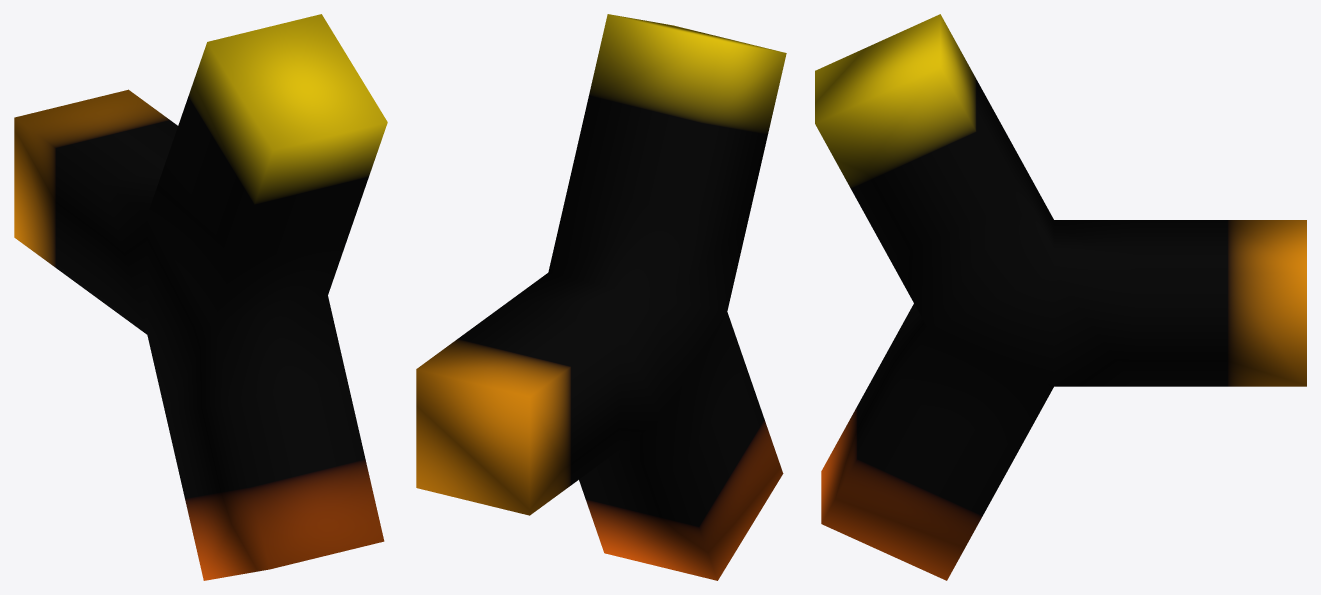
Rendered from TriThing1.fbx.
3 views of the same model, side by side, from view 1: azimuth 30°, elevation 25°; view 2: azimuth 150°, elevation 25°; view 3: azimuth 270°, elevation 25° (orthographic). The views are drawn at different scales.
Visible parts, largest first — view 1: TriThingLowPoly; view 2: TriThingLowPoly; view 3: TriThingLowPoly.
Boxes of the visible parts, box(x1,y1,x2,y2) form: TriThingLowPoly: box(14, 14, 387, 580); TriThingLowPoly: box(416, 14, 786, 580); TriThingLowPoly: box(815, 14, 1306, 580).
Bounding box in the file's own units: 200 × 904 × 784.
